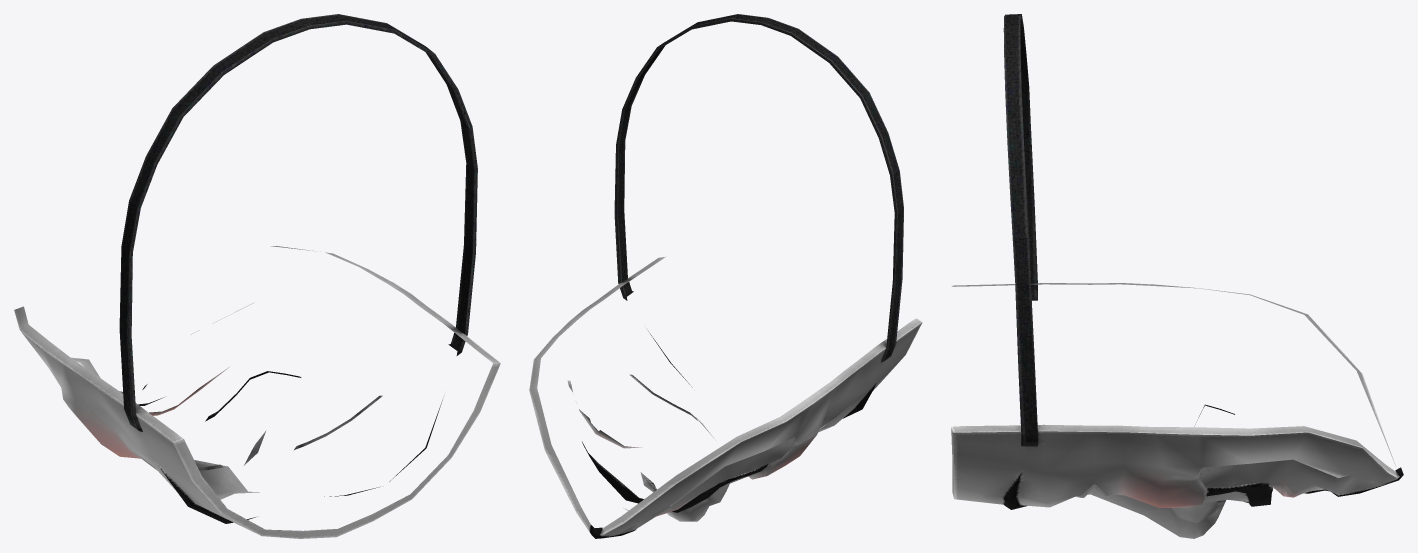
Rendered from anonymous.glb.
The picture shows the model from 3 angles, left to right: view 1: azimuth 30°, elevation 25°; view 2: azimuth 150°, elevation 25°; view 3: azimuth 270°, elevation 25°; orthographic projection. The views are drawn at different scales.
Visible parts, largest first — view 1: Guy Fox; view 2: Guy Fox; view 3: Guy Fox.
Boxes of the visible parts, x1,y1,x2,y2 form: Guy Fox: [14, 14, 500, 538]; Guy Fox: [529, 14, 922, 538]; Guy Fox: [951, 14, 1403, 538].
Bounding box in the file's own units: 0.163 × 0.2454 × 0.1988.
1 material, 1 textured.
